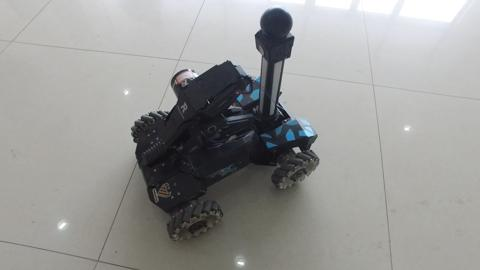chariot: (123, 8, 317, 220)
